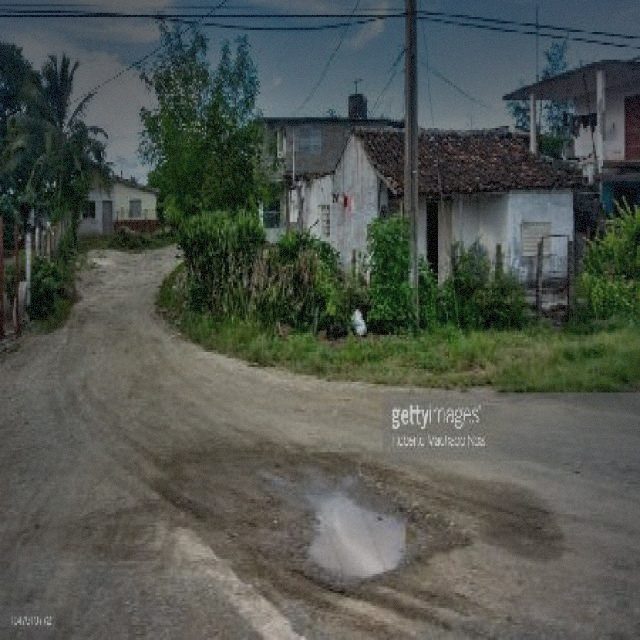pothole: (300, 480, 408, 582)
